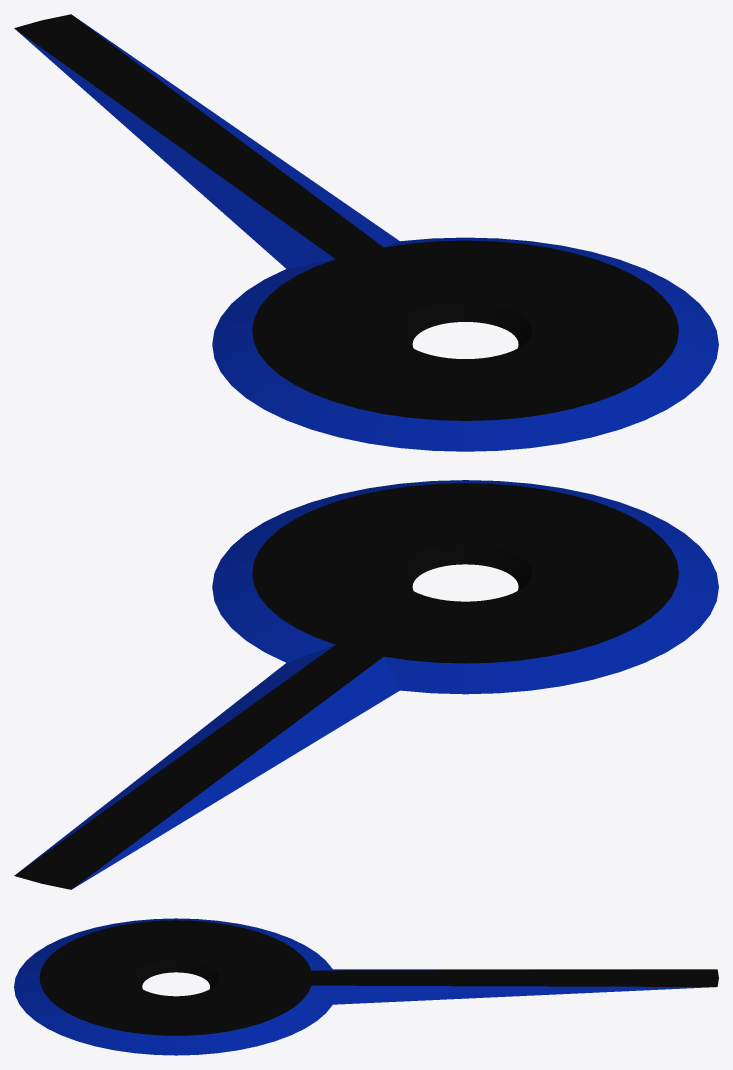
Rendered from sphere-room-platform.obj.
3 renders of one model, top to bottom at view 1: azimuth 30°, elevation 25°; view 2: azimuth 150°, elevation 25°; view 3: azimuth 270°, elevation 25°, orthographic. The views are drawn at different scales.
Parts seen in each view (by area): view 1: Torus, Torus.001; view 2: Torus, Torus.001; view 3: Torus, Torus.001.
Boxes of the visible parts, box(x1,y1,x2,y2) form: Torus: box(14, 14, 678, 420); Torus.001: box(15, 16, 718, 451); Torus: box(14, 483, 678, 889); Torus.001: box(17, 480, 718, 888); Torus: box(39, 920, 718, 1035); Torus.001: box(14, 918, 715, 1055).
Bounding box in the file's own units: 26.87 × 0.8123 × 58.4.
